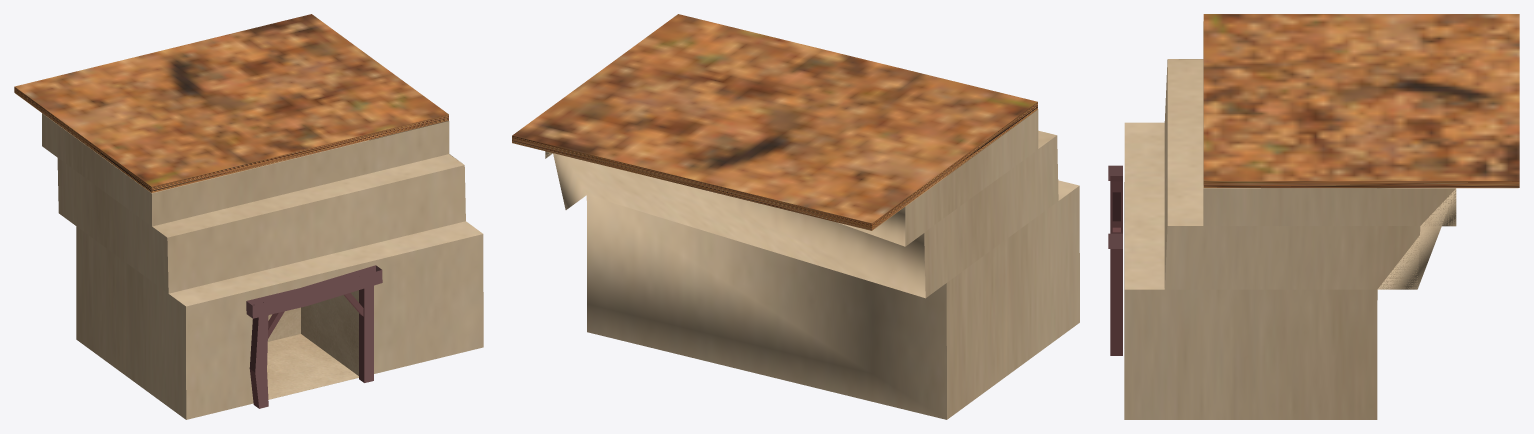
Rendered from Border_5(2).fbx.
3 views of the same model, side by side, from view 1: azimuth 30°, elevation 25°; view 2: azimuth 150°, elevation 25°; view 3: azimuth 270°, elevation 25° (orthographic). The views are drawn at different scales.
Parts seen in each view (by area): view 1: Border_5_BOT, Border_5_TOP, Border_5; view 2: Border_5_BOT, Border_5_TOP; view 3: Border_5_BOT, Border_5_TOP, Border_5.
Boxes of the visible parts, x1=… form: Border_5_BOT: x1=15, y1=93, x2=483, y2=419; Border_5_TOP: x1=14, y1=14, x2=448, y2=192; Border_5: x1=246, y1=265, x2=382, y2=408; Border_5_BOT: x1=545, y1=109, x2=1079, y2=419; Border_5_TOP: x1=512, y1=14, x2=1037, y2=230; Border_5_BOT: x1=1124, y1=21, x2=1518, y2=419; Border_5_TOP: x1=1203, y1=14, x2=1519, y2=187; Border_5: x1=1108, y1=165, x2=1122, y2=355.
Bounding box in the file's own units: 5000 × 3351 × 5205.
Materials: 3 (3 with a texture image).
